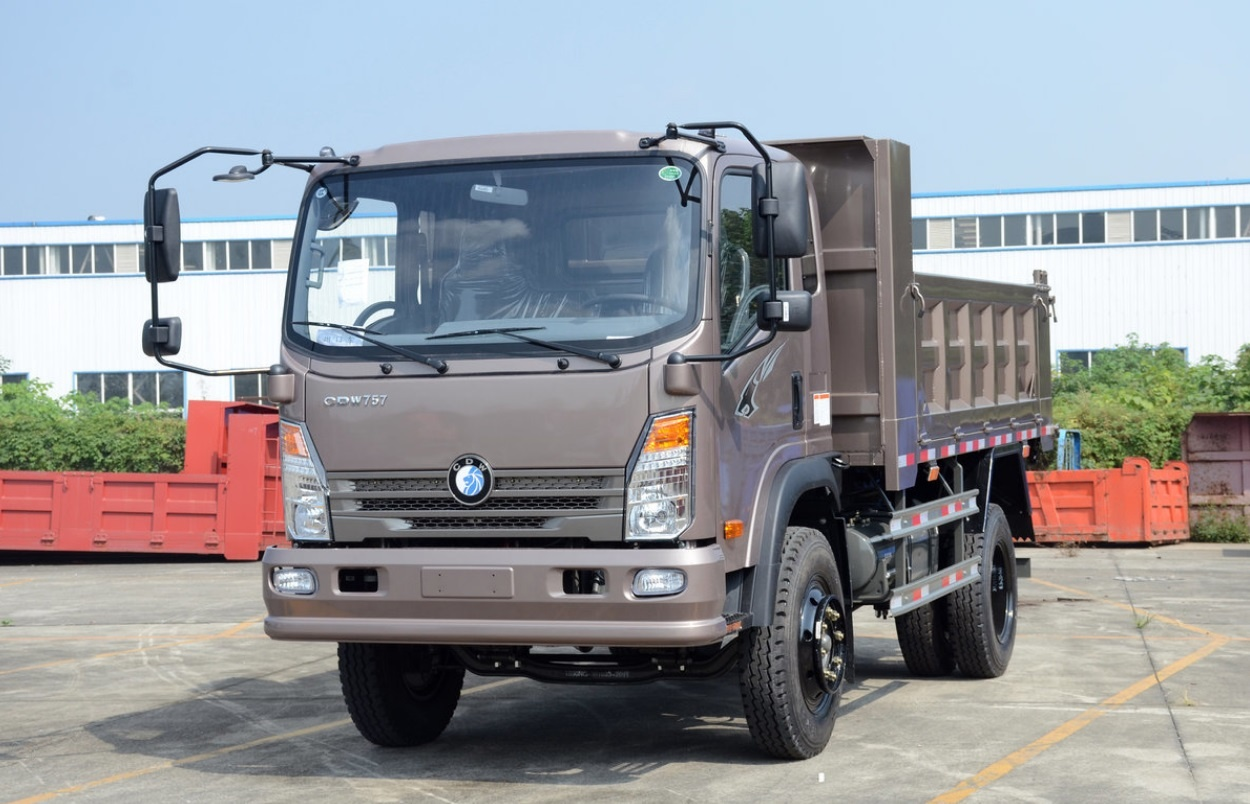truck: (139, 126, 1053, 749)
